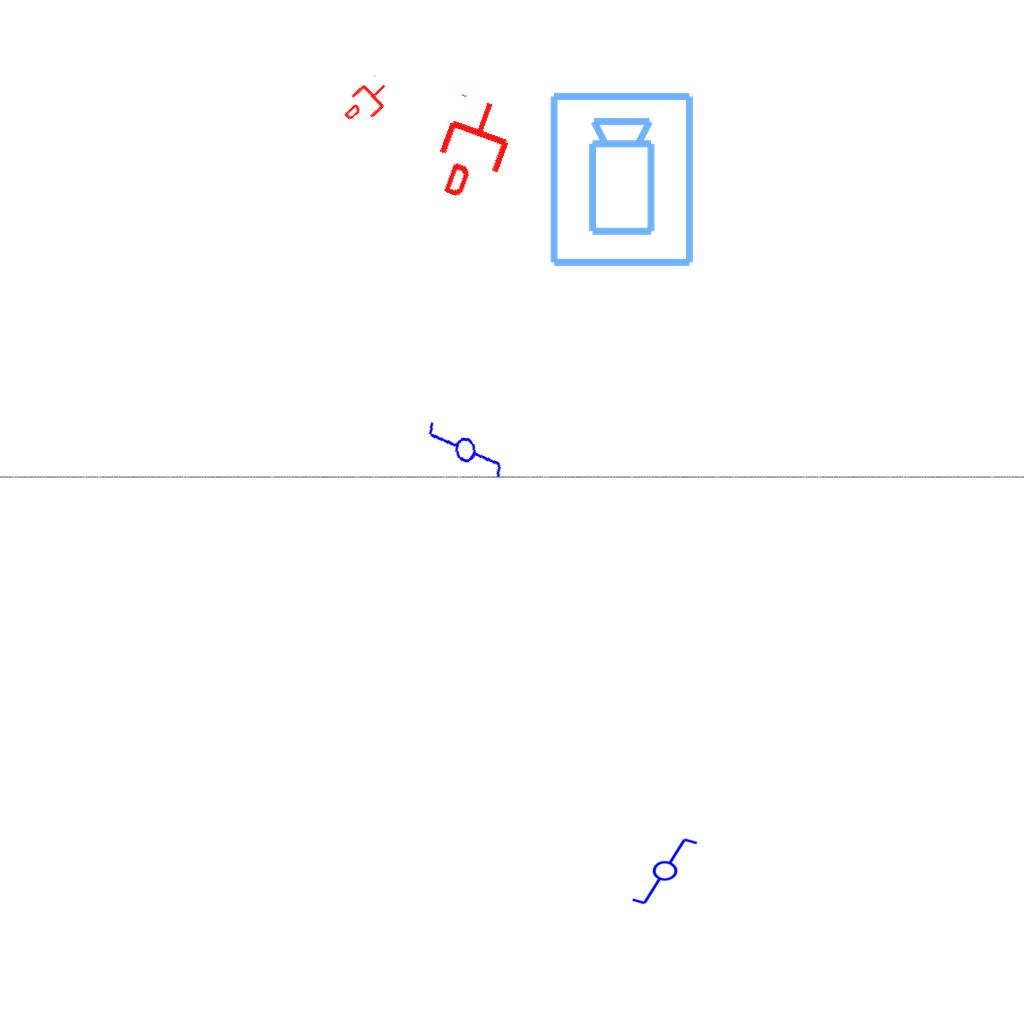Datenanschluss_einfach: (423, 90, 524, 208), (337, 72, 397, 132)
KFO_Kamera_mit_Festobjektiv: (546, 89, 700, 271)
Wechselschalter: (423, 409, 507, 499), (630, 836, 708, 908)
